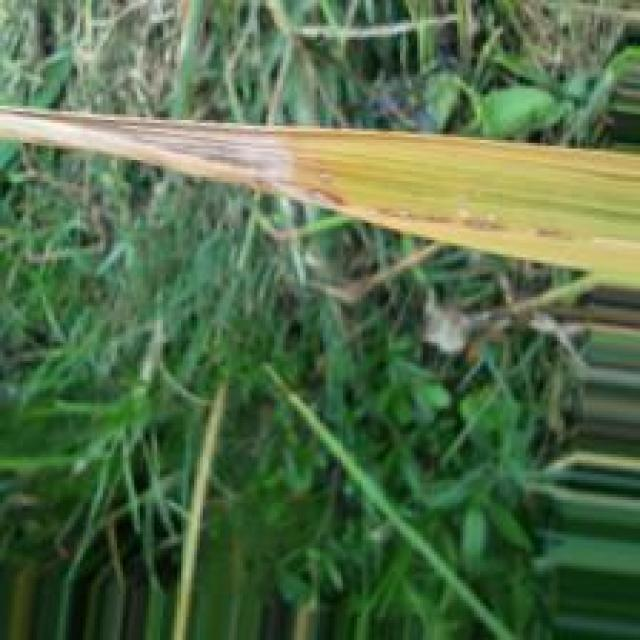Narrow_Brown_Leaf_Spot: (0, 102, 640, 293)
